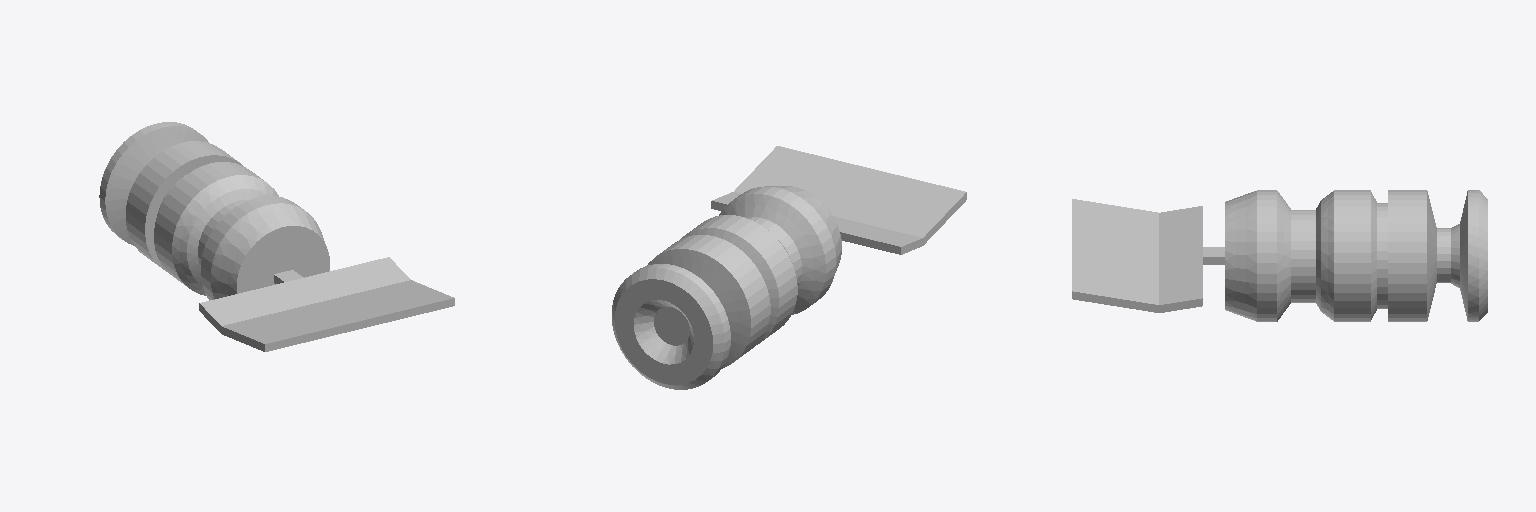
File: Object satellite.obj
3 views of the same model, side by side, from view 1: azimuth 30°, elevation 25°; view 2: azimuth 150°, elevation 25°; view 3: azimuth 270°, elevation 25° (orthographic).
Size of the model in its own units: 50 by 30 by 95.